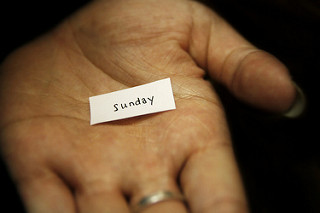palm: (13, 17, 220, 149)
